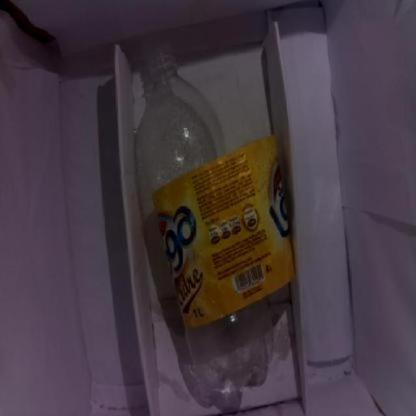plastic_bottles: (126, 32, 276, 410)
